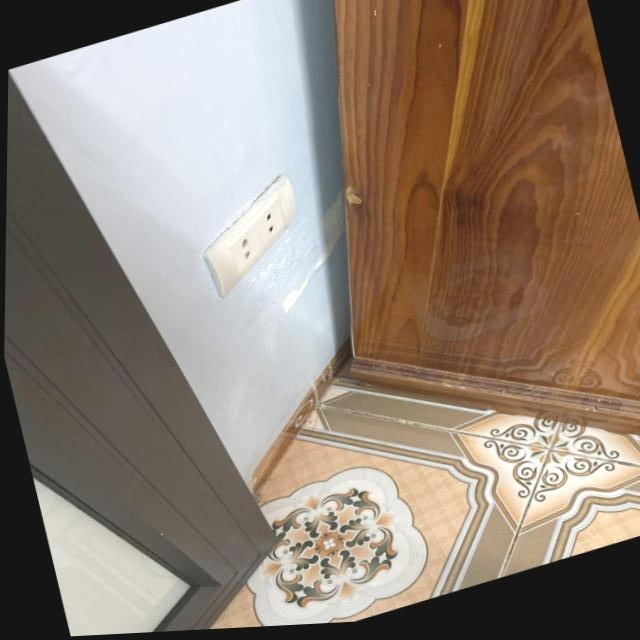outlet: (188, 172, 313, 303)
